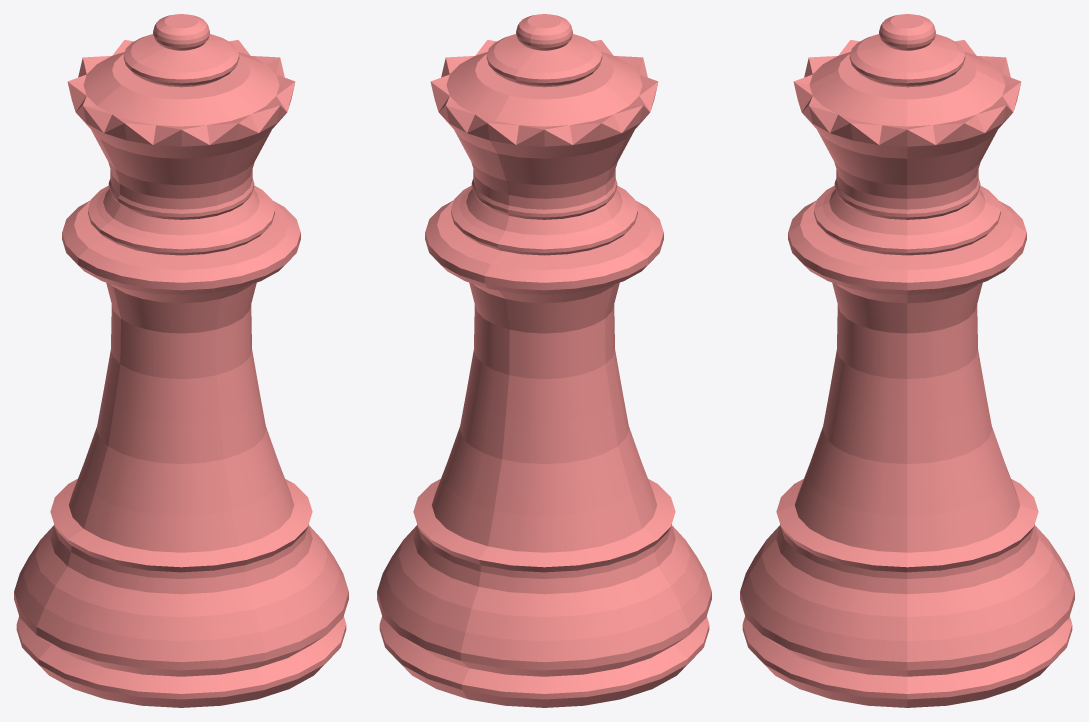
Rendered from queen.dae.
3 renders of one model, left to right at view 1: azimuth 30°, elevation 25°; view 2: azimuth 150°, elevation 25°; view 3: azimuth 270°, elevation 25°, orthographic.
Visible parts, largest first — view 1: SketchUp (×4); view 2: SketchUp (×4); view 3: SketchUp (×4).
Boxes of the visible parts, bbox=[...] form: SketchUp (×4): bbox=[14, 14, 348, 707]; SketchUp (×4): bbox=[377, 14, 711, 707]; SketchUp (×4): bbox=[740, 14, 1074, 707].
Size of the model in its own units: 34.96 by 34.96 by 71.7.
